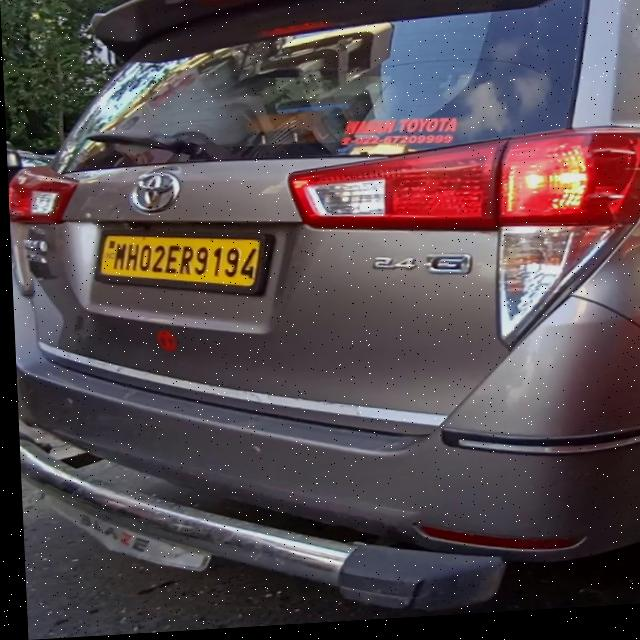plate: (89, 226, 268, 305)
